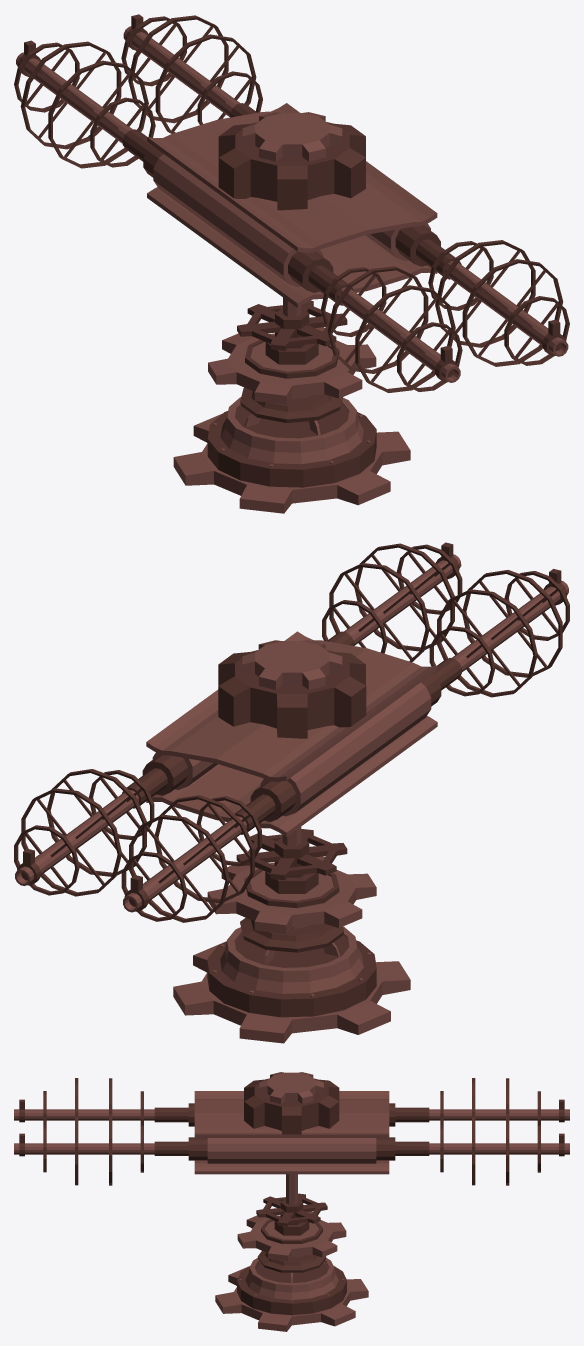
File: quaternius-turret-pack-march-laser-quad.glb
The picture shows the model from 3 angles, top to bottom: view 1: azimuth 30°, elevation 25°; view 2: azimuth 150°, elevation 25°; view 3: azimuth 270°, elevation 25°; orthographic projection. The views are drawn at different scales.
Visible parts, largest first — view 1: Laser_Quad_Base; view 2: Laser_Quad_Base; view 3: Laser_Quad_Base.
Part boxes in pixels (bbox=[...]): Laser_Quad_Base: bbox=[14, 14, 569, 513]; Laser_Quad_Base: bbox=[14, 542, 569, 1043]; Laser_Quad_Base: bbox=[14, 1072, 569, 1331].
Bounding box in the file's own units: 1.39 × 2.16 × 5.
